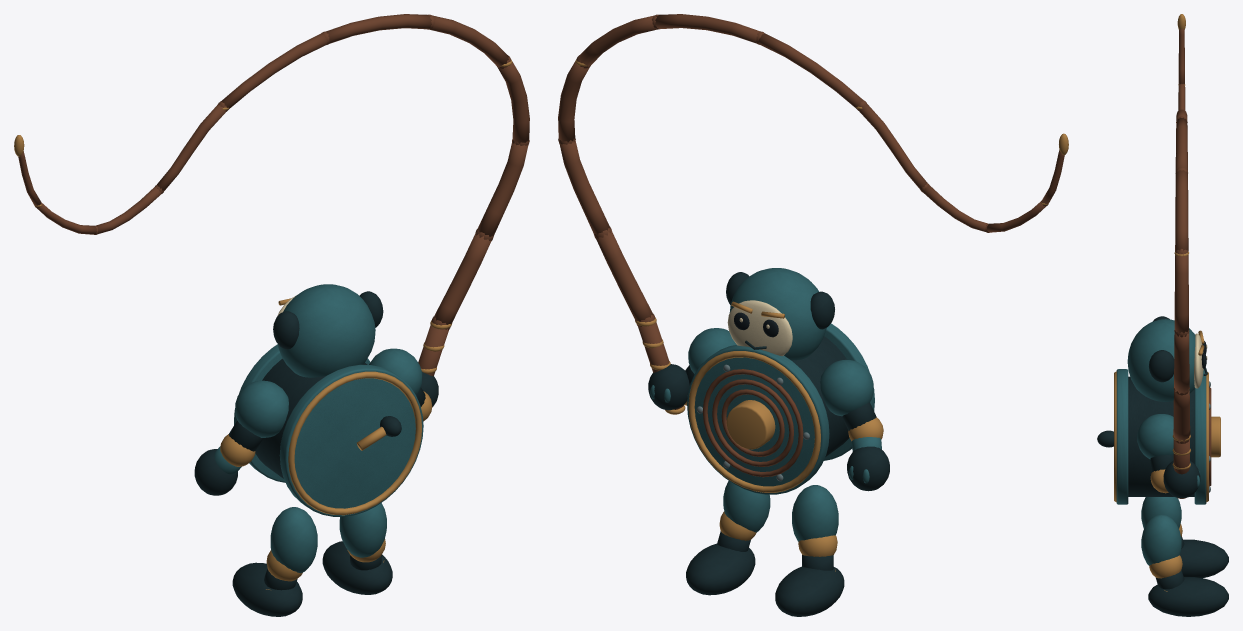
3 renders of one model, left to right at view 1: azimuth 30°, elevation 25°; view 2: azimuth 150°, elevation 25°; view 3: azimuth 270°, elevation 25°, orthographic. The views are drawn at different scales.
Parts seen in each view (by area): view 1: reel_body__rubber__surface, rubber_connector_head, reel_body__brass__surface, left_upper_leg, left_shoulder_pad, left_work_boot, right_work_boot, rubber_reel_core, right_upper_leg, whip_joint_01__leather__surface, whip_joint_02__leather__surface, whip_joint_06__leather__surface (+10 smaller); view 2: reel_body__rubber__surface, reel_body__brass__surface, reel_body__leather__surface, rubber_connector_head, left_work_boot, right_work_boot, left_shoulder_pad, left_upper_leg, head__ivory__surface, rubber_reel_core, whip_joint_01__leather__surface, whip_joint_02__leather__surface (+13 smaller); view 3: reel_body__rubber__surface, rubber_connector_head, rubber_reel_core, right_work_boot, right_upper_leg, left_work_boot, right_shoulder_pad, reel_body__brass__surface, whip_joint_03__leather__surface, whip_joint_04__leather__surface, right_grip, whip_joint_02__leather__surface (+14 smaller).
Boxes of the visible parts, box(x1,y1,x2,y2) form: reel_body__rubber__surface: box(234, 344, 423, 516); rubber_connector_head: box(277, 284, 375, 377); reel_body__brass__surface: box(288, 371, 421, 515); left_upper_leg: box(270, 507, 317, 573); left_shoulder_pad: box(235, 380, 288, 437); left_work_boot: box(232, 562, 302, 616); right_work_boot: box(322, 541, 392, 594); rubber_reel_core: box(255, 358, 367, 478); right_upper_leg: box(339, 503, 386, 557); whip_joint_01__leather__surface: box(431, 232, 491, 329); whip_joint_02__leather__surface: box(475, 141, 528, 240); whip_joint_06__leather__surface: box(221, 31, 329, 109); reel_body__rubber__surface: box(687, 323, 874, 494); reel_body__brass__surface: box(688, 351, 820, 492); reel_body__leather__surface: box(702, 369, 803, 477); rubber_connector_head: box(729, 268, 826, 360); left_work_boot: box(775, 566, 844, 616); right_work_boot: box(686, 543, 755, 595); left_shoulder_pad: box(820, 359, 873, 416); left_upper_leg: box(792, 485, 838, 541); head__ivory__surface: box(727, 300, 792, 356); rubber_reel_core: box(791, 336, 849, 456); whip_joint_01__leather__surface: box(596, 230, 655, 327); whip_joint_02__leather__surface: box(559, 140, 611, 238); reel_body__rubber__surface: box(1116, 369, 1206, 504); rubber_connector_head: box(1127, 319, 1195, 401); rubber_reel_core: box(1128, 376, 1194, 496); right_work_boot: box(1148, 577, 1228, 616); right_upper_leg: box(1141, 514, 1181, 565); left_work_boot: box(1180, 539, 1228, 578); right_shoulder_pad: box(1137, 414, 1173, 459); reel_body__brass__surface: box(1114, 371, 1220, 502); whip_joint_03__leather__surface: box(1174, 253, 1189, 337); whip_joint_04__leather__surface: box(1175, 170, 1188, 254); right_grip: box(1163, 460, 1200, 498); whip_joint_02__leather__surface: box(1173, 332, 1189, 395).
Bounding box in the file's own units: 2.97 × 3.15 × 0.7776.
Materials: 7 (6 with a texture image).
